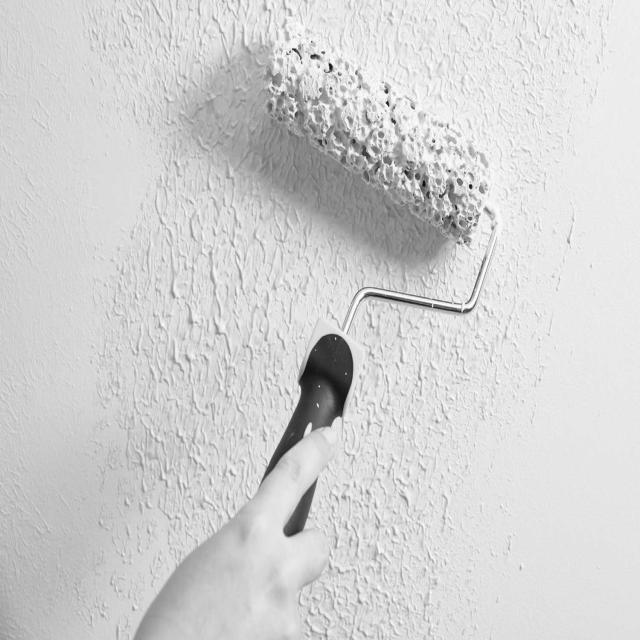rough and patchy surface: (79, 0, 528, 640), (528, 0, 614, 410), (0, 0, 33, 640), (34, 493, 68, 640), (32, 0, 61, 148)
